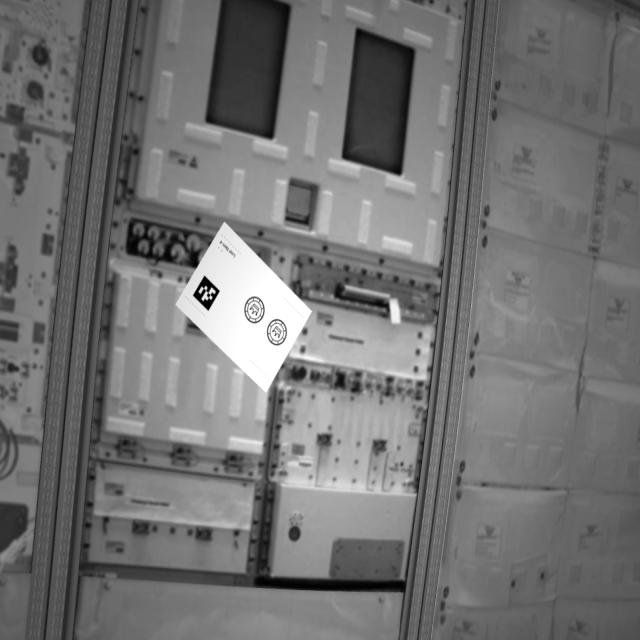coin: (241, 296, 268, 326), (265, 316, 290, 348)
